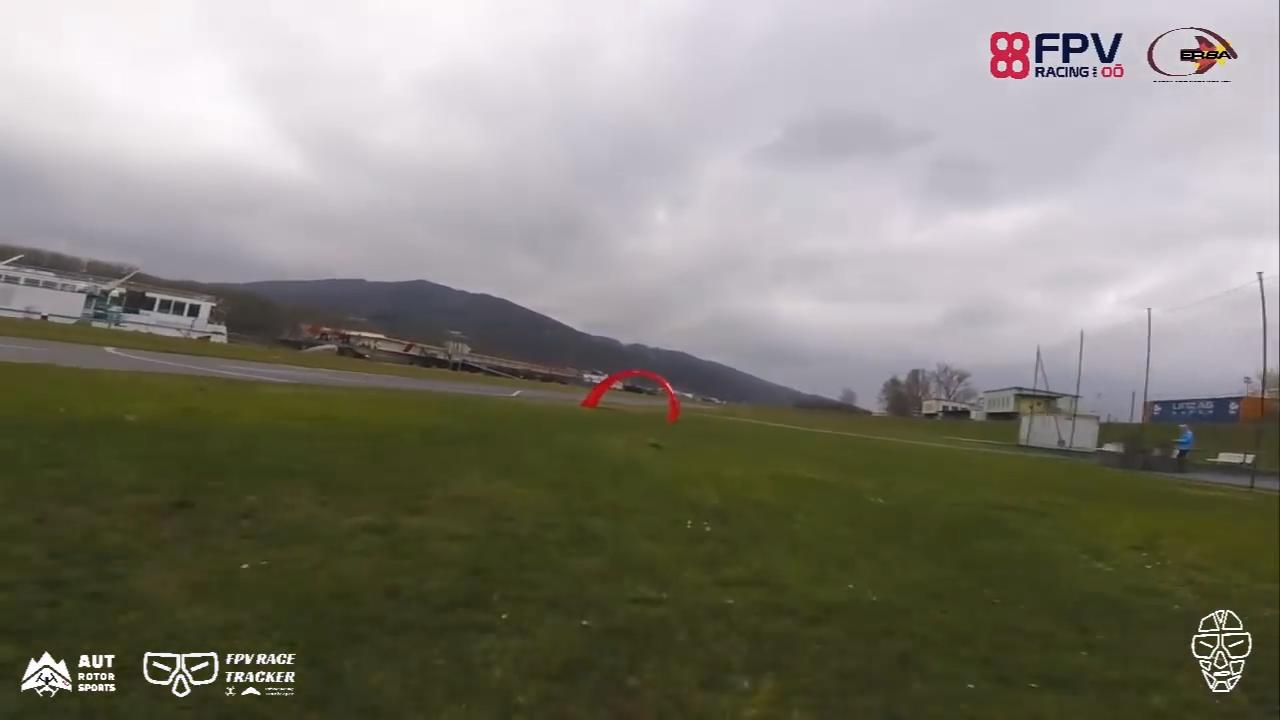gate: (582, 366, 681, 428)
